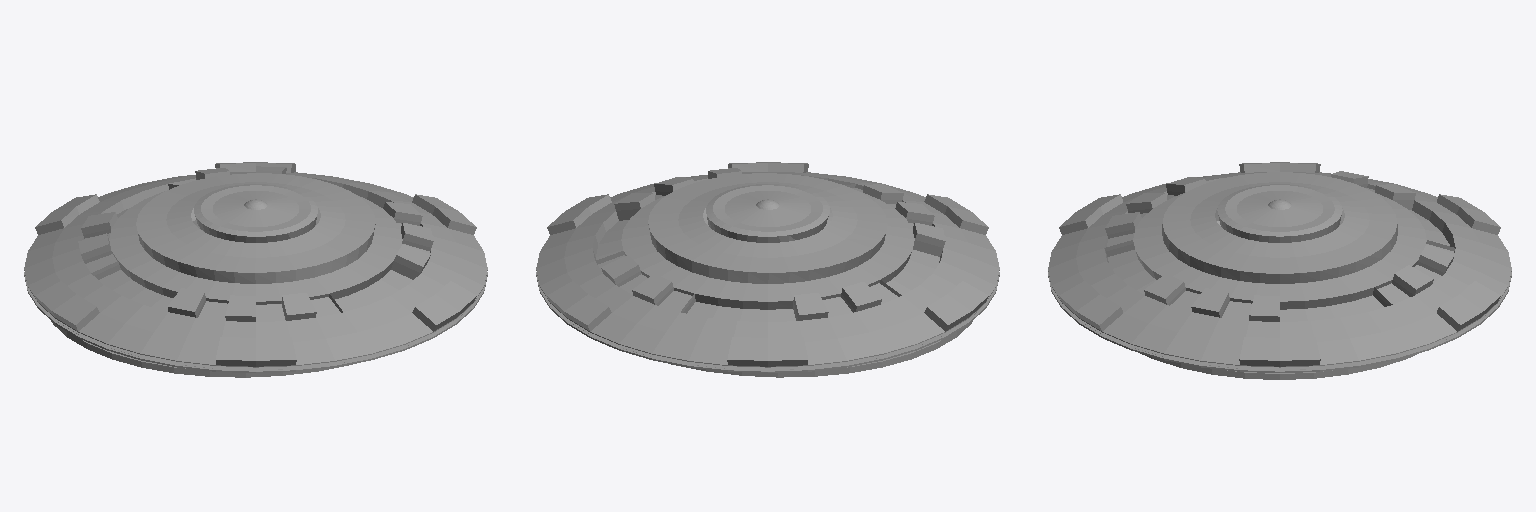
Rendered from UFOF.obj.
The picture shows the model from 3 angles: view 1: azimuth 30°, elevation 25°; view 2: azimuth 150°, elevation 25°; view 3: azimuth 270°, elevation 25°; orthographic projection.
Parts seen in each view (by area): view 1: UFO, UFO_Blue_light; view 2: UFO, UFO_Blue_light; view 3: UFO, UFO_Blue_light.
Boxes of the visible parts, <box> form: UFO: <box>24,162,487,372</box>; UFO_Blue_light: <box>51,321,356,377</box>; UFO: <box>536,162,999,372</box>; UFO_Blue_light: <box>671,321,972,377</box>; UFO: <box>1048,162,1511,372</box>; UFO_Blue_light: <box>1140,353,1416,379</box>.
Size of the model in its own units: 43.52 by 11.2 by 42.91.